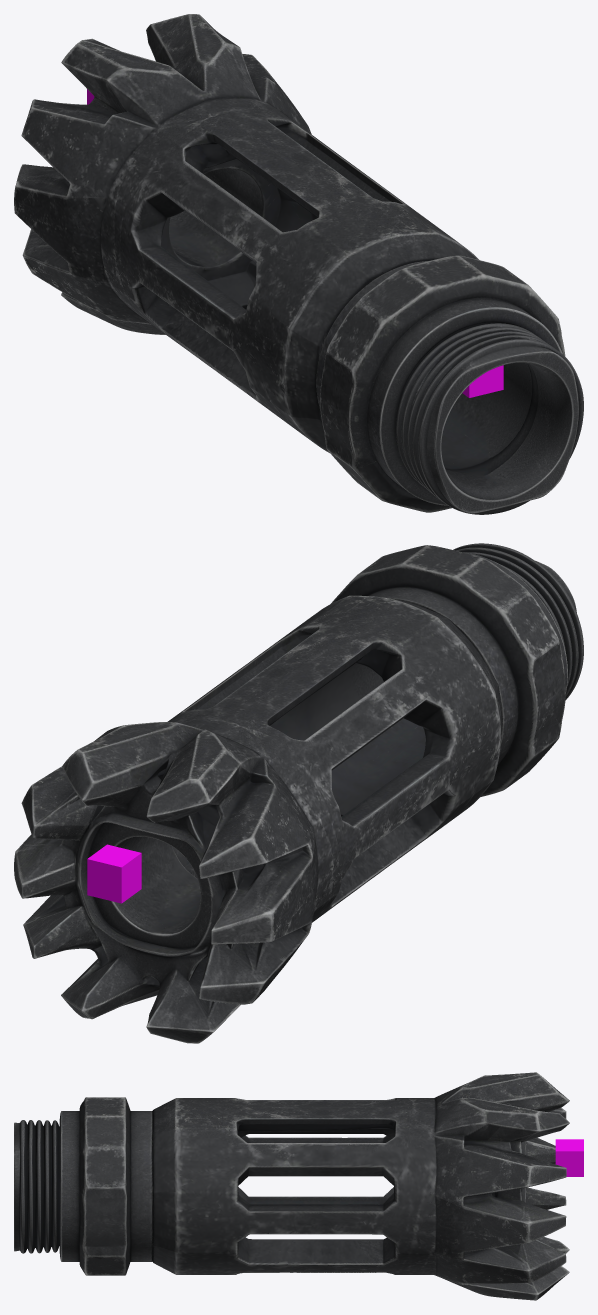
The model's file is MuzzleBrake_Shotgun.glb.
3 renders of one model, top to bottom at view 1: azimuth 30°, elevation 25°; view 2: azimuth 150°, elevation 25°; view 3: azimuth 270°, elevation 25°, orthographic. The views are drawn at different scales.
Visible parts, largest first — view 1: MuzzleBrake_22, MuzzleBrake_12, MuzzleBrake_20, MuzzleBrake_13, MuzzleBrake_17, MuzzleBrake_16, MuzzleBrake_30, MuzzleBrake_19, MuzzleBrake_23, MuzzleBrake_14, MuzzleBrake_24, MuzzleBrake_15 (+18 smaller); view 2: MuzzleBrake_19, MuzzleBrake_02, MuzzleBrake_21, MuzzleBrake_17, MuzzleBrake_03, MuzzleBrake_22, MuzzleBrake_16, MuzzleBrake_05, MuzzleBrake_20, MuzzleBrake_13, MuzzleBrake_04, MuzzleBrake_12 (+15 smaller); view 3: MuzzleBrake_17, MuzzleBrake_16, MuzzleBrake_22, MuzzleBrake_20, MuzzleBrake_19, MuzzleBrake_12, MuzzleBrake_13, MuzzleBrake_21, MuzzleBrake_02, MuzzleBrake_23, MuzzleBrake_03, MuzzleBrake_09 (+19 smaller).
Part boxes in pixels (x1,y1,x2,y2): MuzzleBrake_22: [320, 255, 565, 512]; MuzzleBrake_12: [58, 51, 311, 334]; MuzzleBrake_20: [261, 220, 478, 452]; MuzzleBrake_13: [100, 96, 310, 324]; MuzzleBrake_17: [179, 131, 410, 405]; MuzzleBrake_16: [135, 123, 364, 367]; MuzzleBrake_30: [420, 341, 583, 514]; MuzzleBrake_19: [237, 200, 445, 434]; MuzzleBrake_23: [367, 298, 556, 505]; MuzzleBrake_14: [122, 112, 315, 331]; MuzzleBrake_24: [380, 307, 562, 505]; MuzzleBrake_15: [128, 118, 317, 333]; MuzzleBrake_19: [275, 598, 499, 837]; MuzzleBrake_02: [14, 749, 271, 1043]; MuzzleBrake_21: [330, 566, 537, 796]; MuzzleBrake_17: [222, 629, 451, 880]; MuzzleBrake_03: [14, 744, 279, 1030]; MuzzleBrake_22: [331, 545, 565, 793]; MuzzleBrake_16: [176, 654, 402, 918]; MuzzleBrake_05: [22, 740, 283, 1019]; MuzzleBrake_20: [308, 595, 503, 815]; MuzzleBrake_13: [161, 709, 344, 921]; MuzzleBrake_04: [19, 740, 281, 1023]; MuzzleBrake_12: [132, 722, 317, 939]; MuzzleBrake_17: [239, 1100, 370, 1272]; MuzzleBrake_16: [279, 1100, 388, 1272]; MuzzleBrake_22: [79, 1097, 125, 1275]; MuzzleBrake_20: [152, 1098, 217, 1274]; MuzzleBrake_19: [178, 1098, 243, 1274]; MuzzleBrake_12: [435, 1082, 477, 1290]; MuzzleBrake_13: [394, 1097, 436, 1275]; MuzzleBrake_21: [125, 1097, 151, 1275]; MuzzleBrake_02: [528, 1072, 557, 1300]; MuzzleBrake_23: [61, 1111, 79, 1261]; MuzzleBrake_03: [516, 1072, 541, 1300]; MuzzleBrake_09: [474, 1075, 499, 1297].
Size of the model in its own units: 0.2246 by 0.2197 by 0.607.
Materials: 2 (1 with a texture image).
